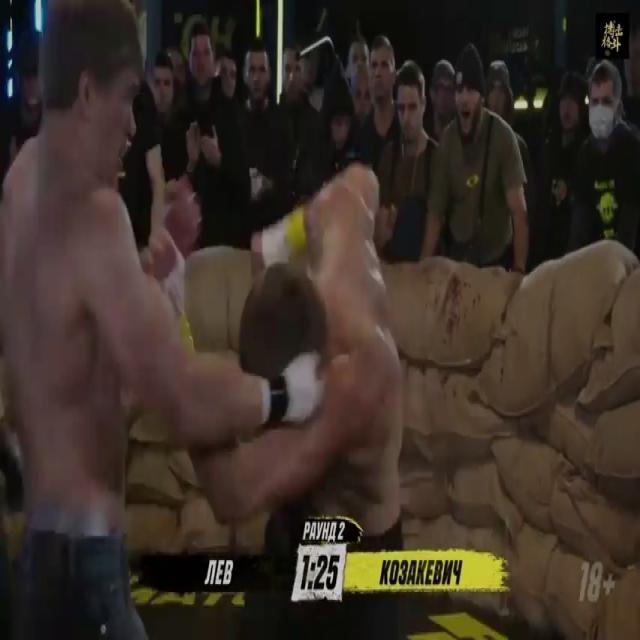fight: (0, 5, 412, 639)
